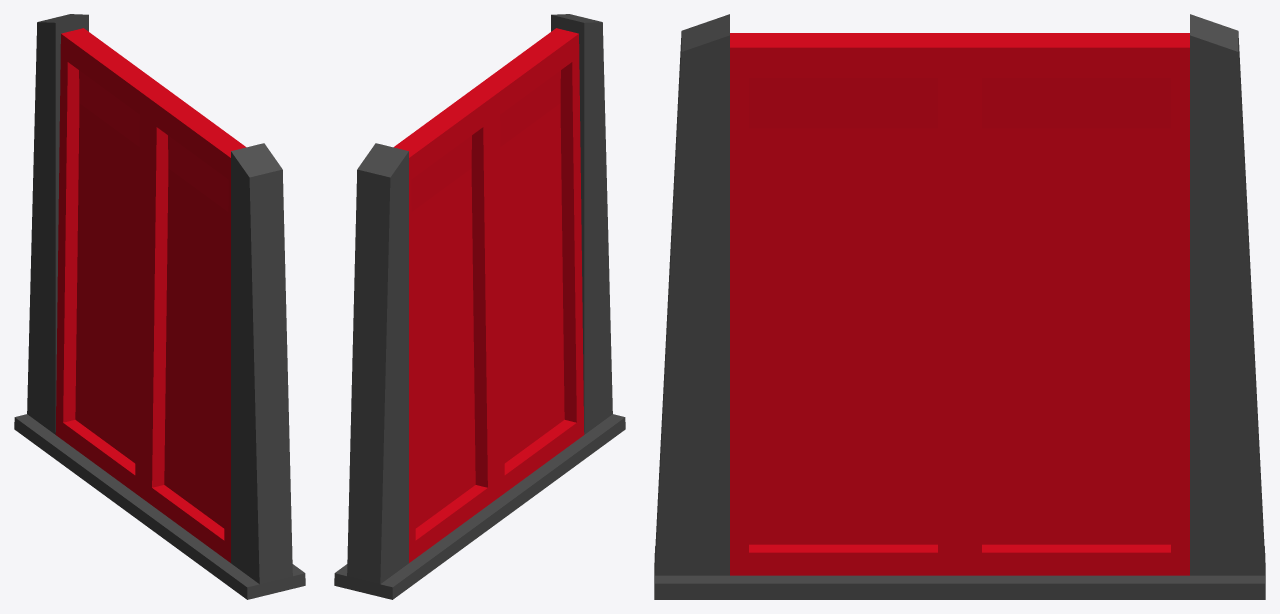
The model's file is gate_1.fbx.
The picture shows the model from 3 angles, left to right: view 1: azimuth 30°, elevation 25°; view 2: azimuth 150°, elevation 25°; view 3: azimuth 270°, elevation 25°; orthographic projection. The views are drawn at different scales.
Parts seen in each view (by area): view 1: Gate.Door, Gate.Frame; view 2: Gate.Door, Gate.Frame; view 3: Gate.Door, Gate.Frame.
Boxes of the visible parts, x1,y1,x2,y2 form: Gate.Door: (55,28,246,562); Gate.Frame: (14,14,305,599); Gate.Door: (394,28,584,562); Gate.Frame: (334,14,625,599); Gate.Door: (730,33,1189,575); Gate.Frame: (654,14,1265,599).
Bounding box in the file's own units: 0.1435 × 0.9947 × 1.
